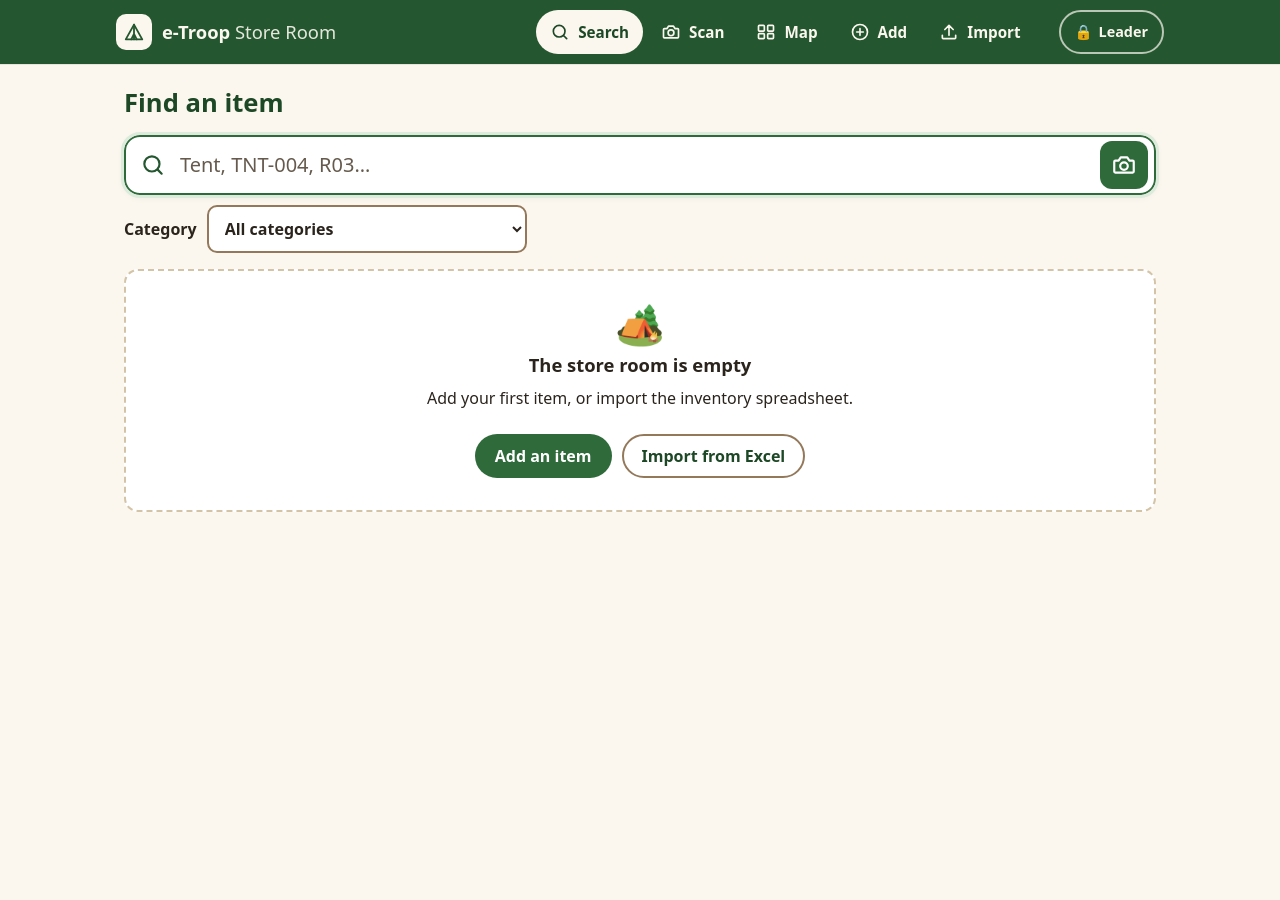
Test: PIN dialog (P1, Retry-After, 503, 6–8 digits) › "too many at once" (Retry-After: 1) says to wait a moment; a long block uses the real time
Click the button with test id "leader-button" at point(1111, 32), box [1058,10,1164,54]
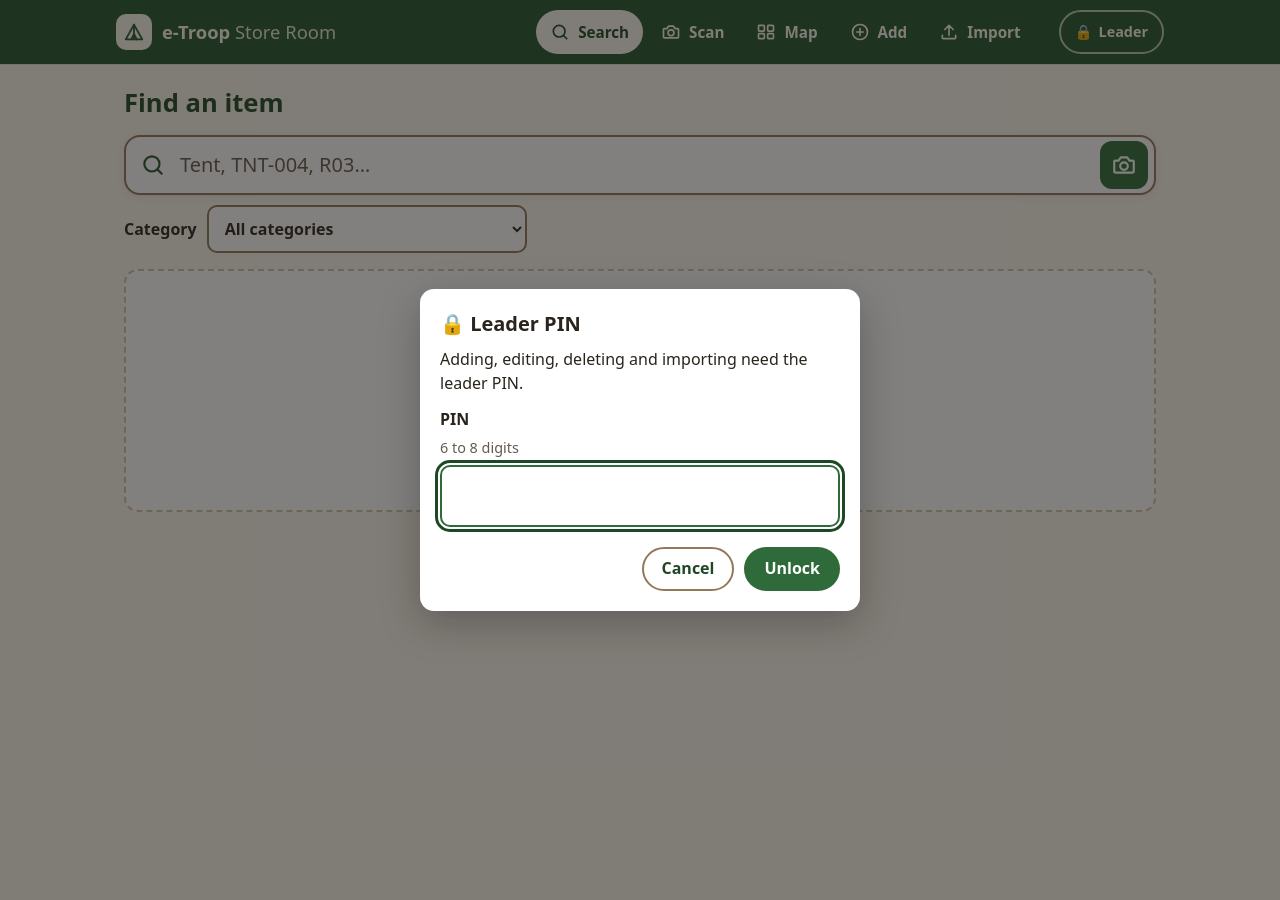
Type "246810" into the password field labelled "PIN" at point(640, 496), box [440,465,840,527]
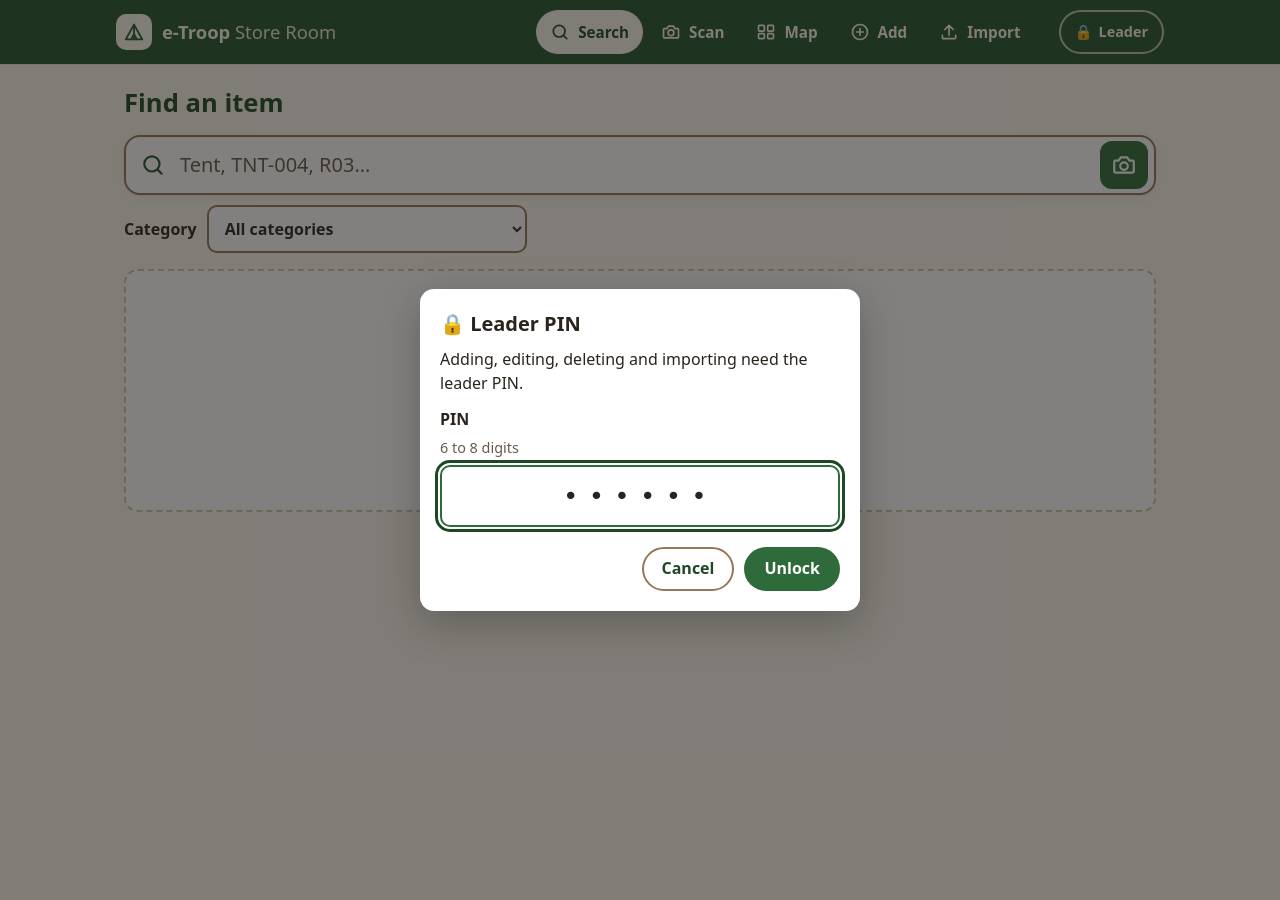
Click the button "Unlock" at point(792, 569), box [744,547,840,591]
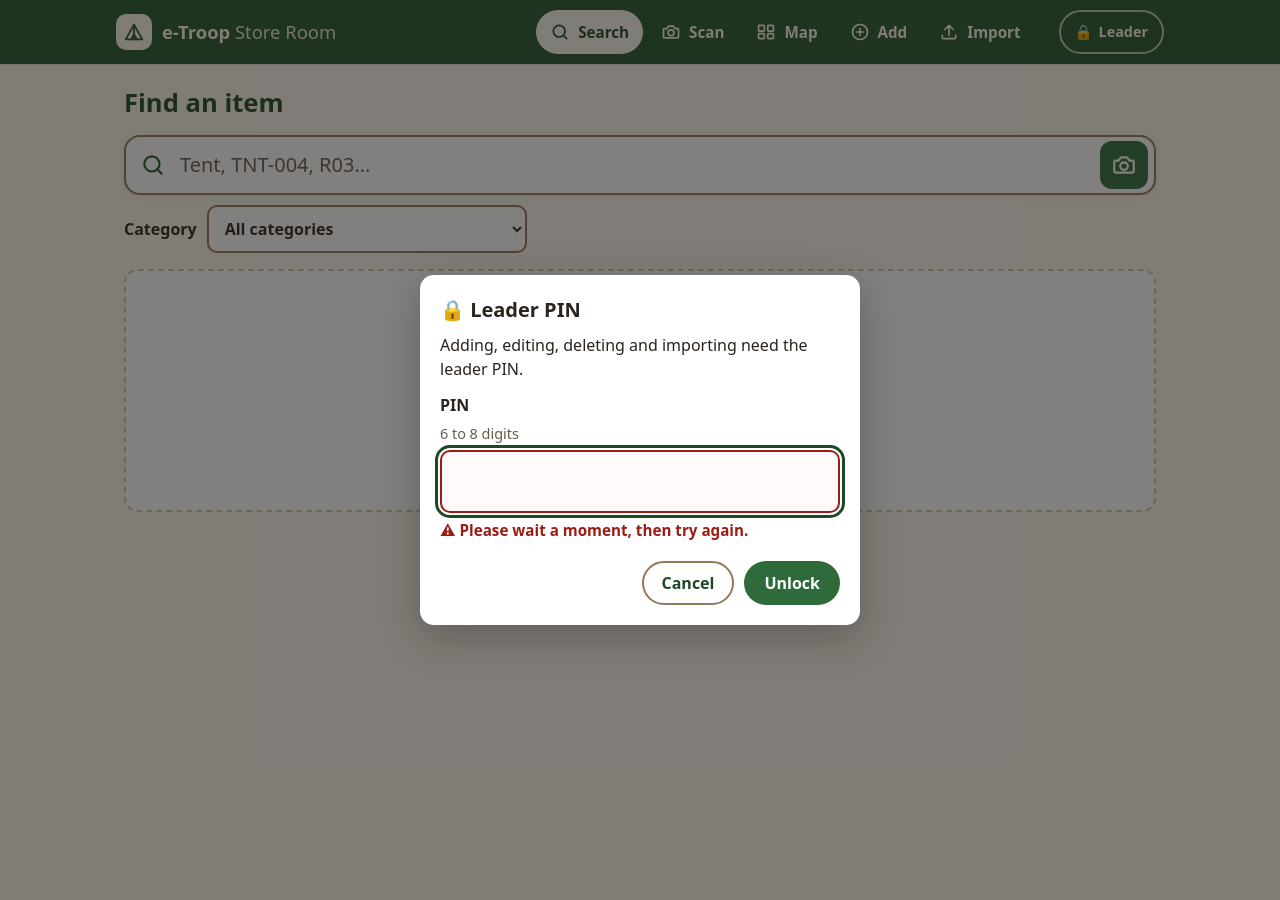
Check: the message shows "Please wait a moment, then try again.", box [460,520,748,540]
Type "246810" into the password field labelled "PIN" at point(640, 481), box [440,450,840,513]
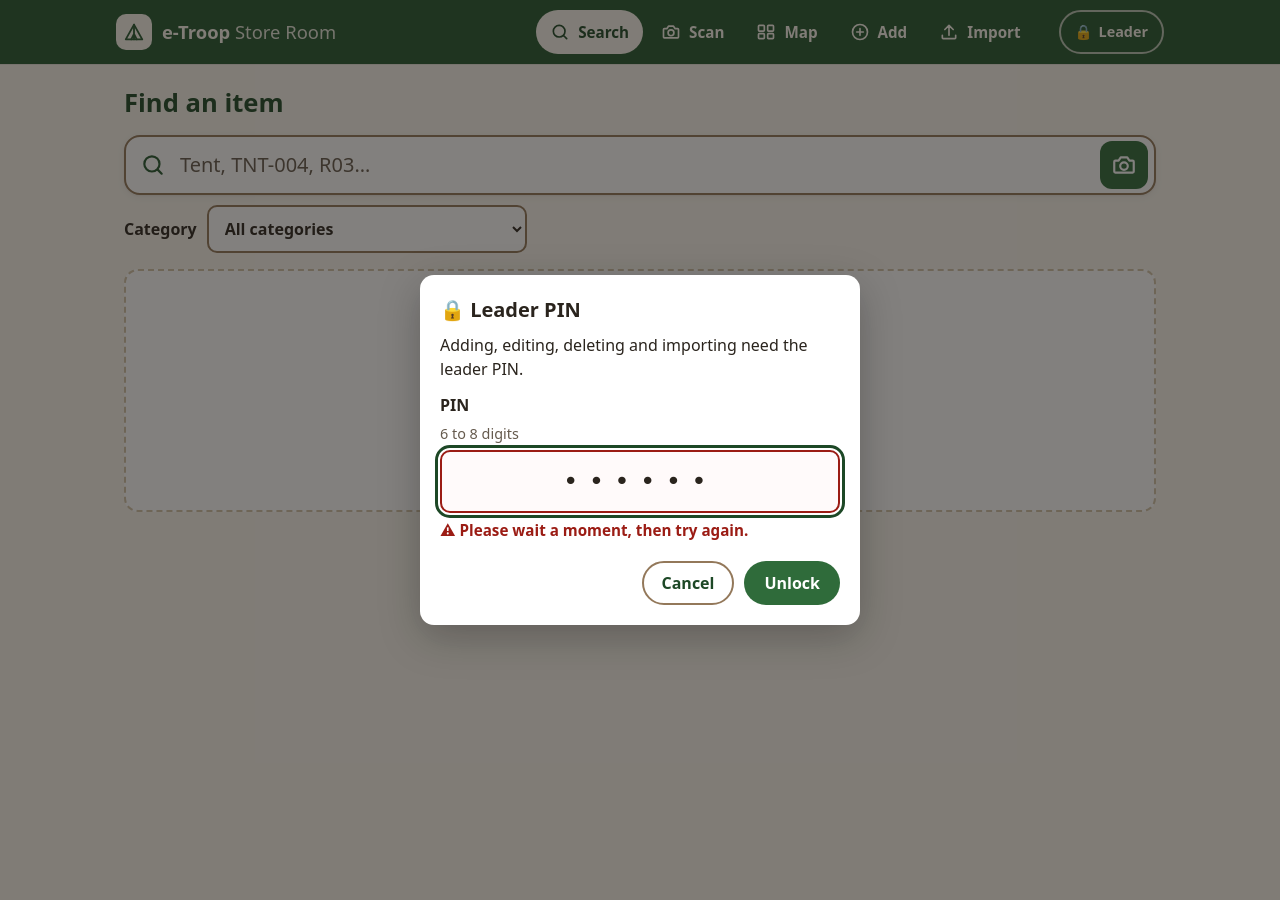
Click the button "Unlock" at point(792, 583), box [744,561,840,605]
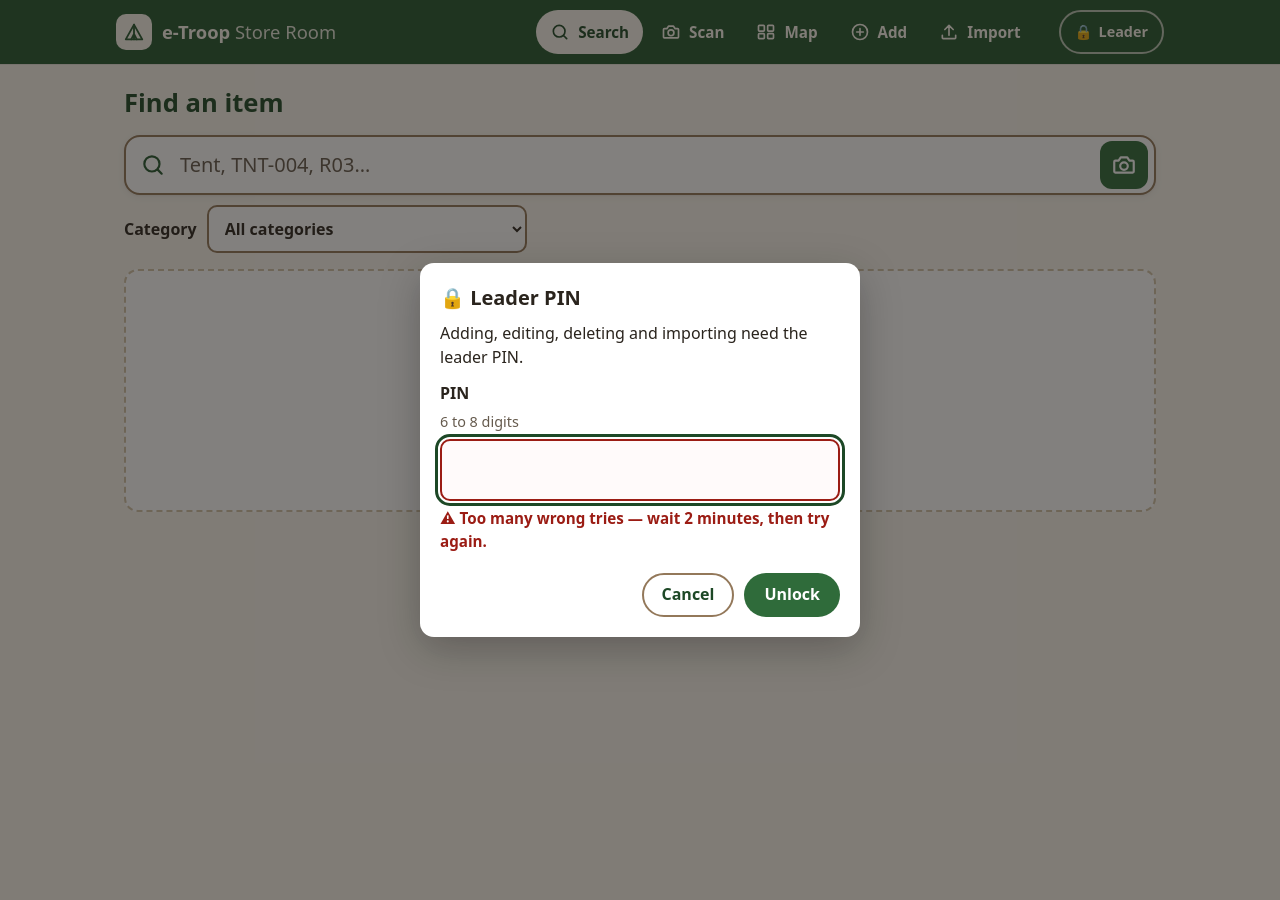
Check: the message shows "Too many wrong tries — wait 2 minutes", box [440,508,829,551]
